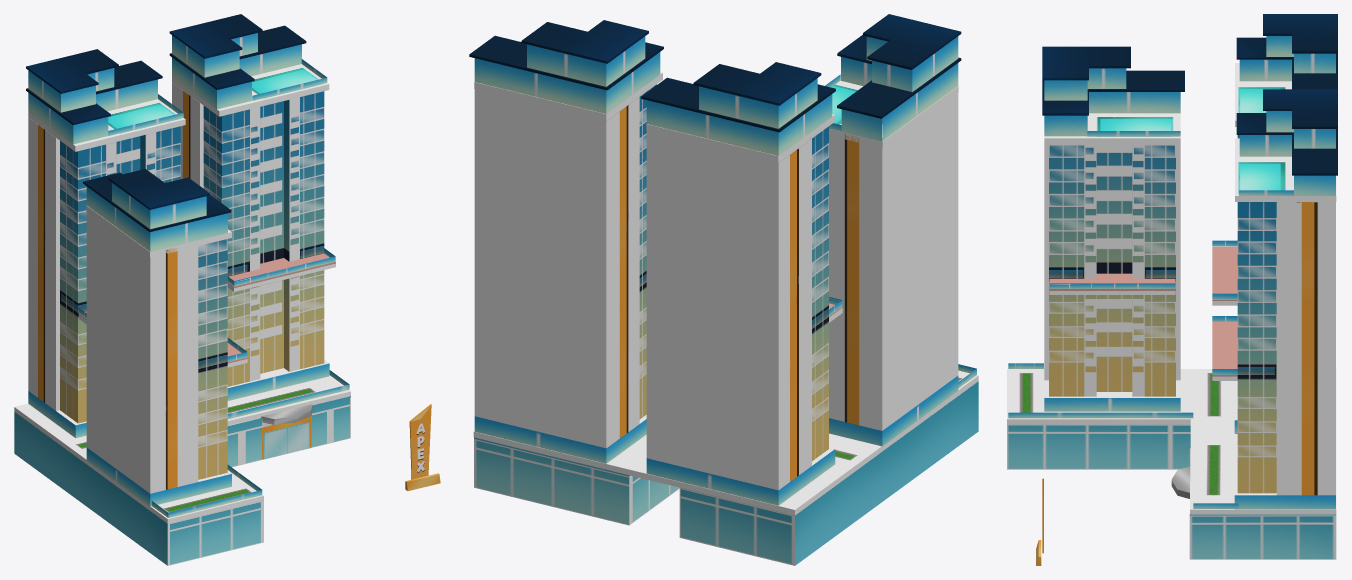
The model's file is Tx_Exterior_Property_CondoT1_20170808.fbx.
3 views of the same model, side by side, from view 1: azimuth 30°, elevation 25°; view 2: azimuth 150°, elevation 25°; view 3: azimuth 270°, elevation 25° (orthographic). The views are drawn at different scales.
Parts seen in each view (by area): view 1: building, signage; view 2: building; view 3: building.
Part boxes in pixels (<box>): building: <box>14,14,350,565</box>; signage: <box>405,404,440,490</box>; building: <box>469,14,978,565</box>; building: <box>1007,14,1337,559</box>.
Size of the model in its own units: 27.22 by 34.64 by 25.22.
Materials: 2 (2 with a texture image).
